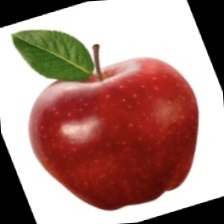apple: (13, 57, 205, 202)
